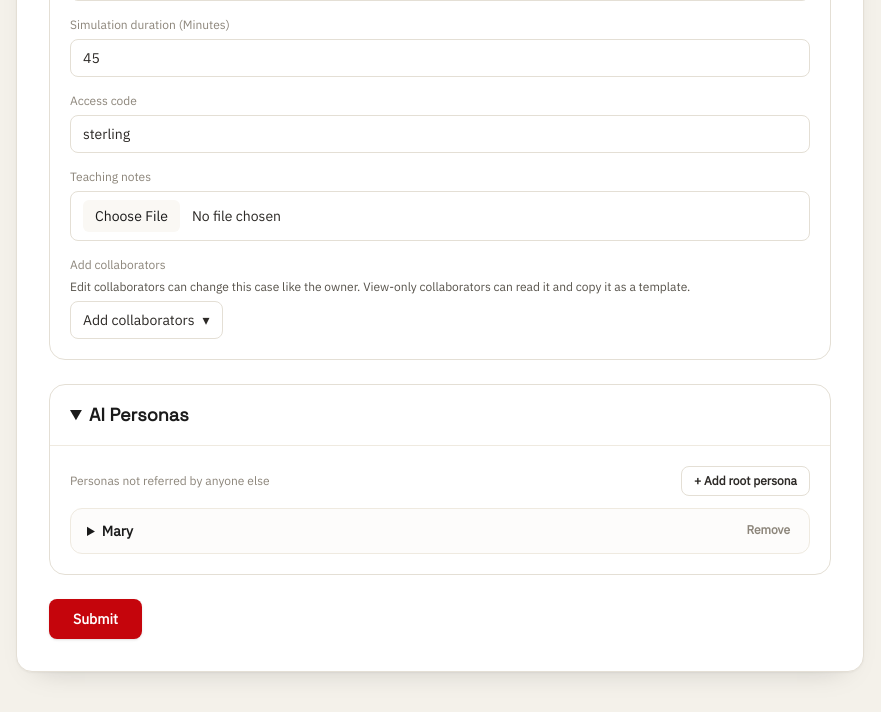
CaseForm › edit mode › loads the case into the form and saves it via the Convex updateCase mutation
(page scrolled)
Expected: the field showing "sterling" is shown, [70, 114, 810, 152]
What coordinates should you click on to do the following:
click the button "Submit"
I would click on:
 (95, 618)
Its box is [49, 598, 142, 638].
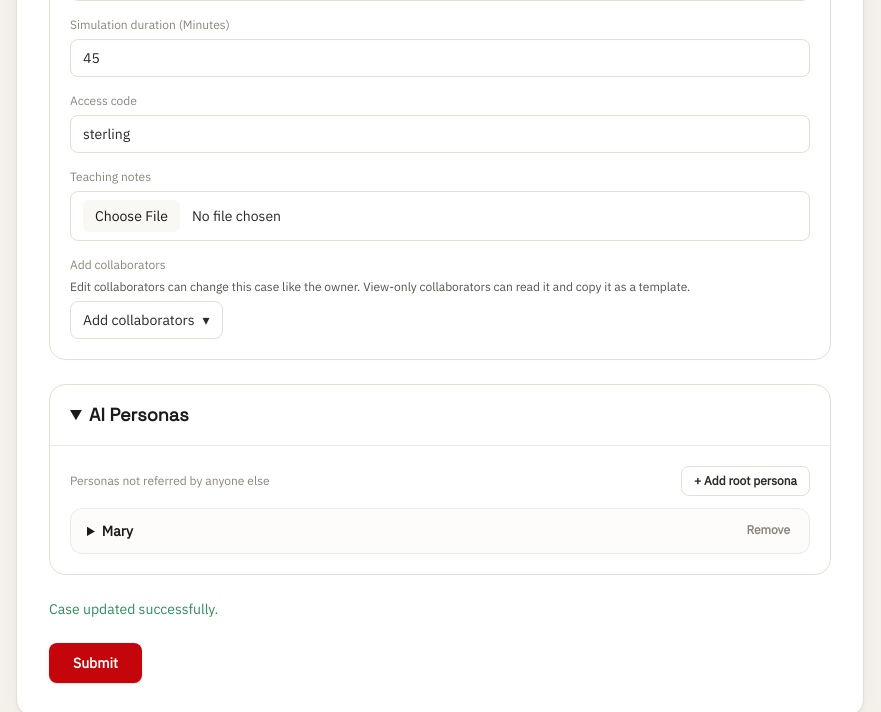
Now the text "Case updated successfully." is shown, box [49, 600, 218, 618]
